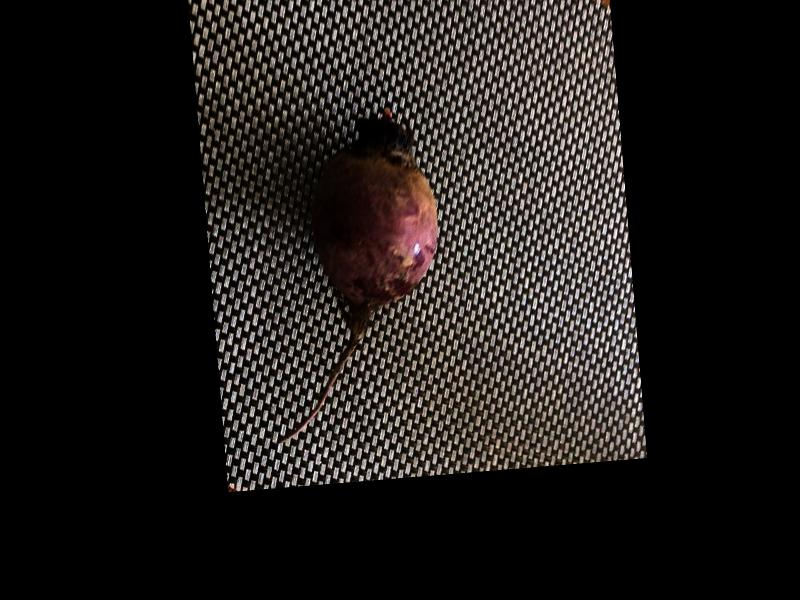Beet: (251, 104, 453, 445)
